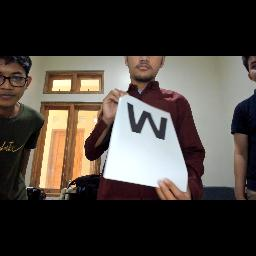w: (124, 99, 172, 147)
